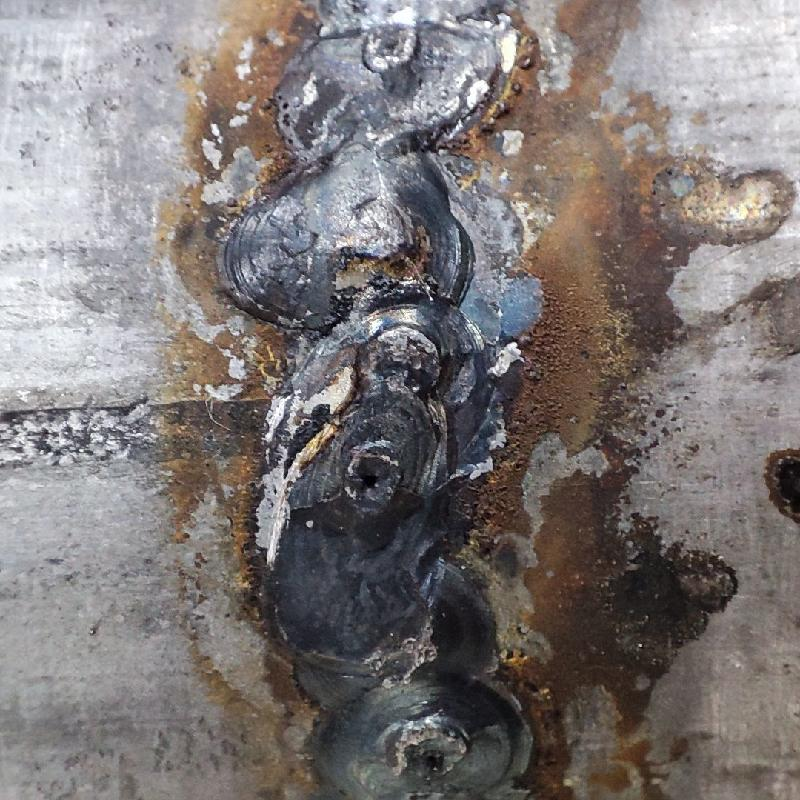Surface_pores: (390, 721, 463, 785), (341, 450, 402, 504), (369, 18, 408, 65)
wrong_size: (257, 5, 533, 795)
